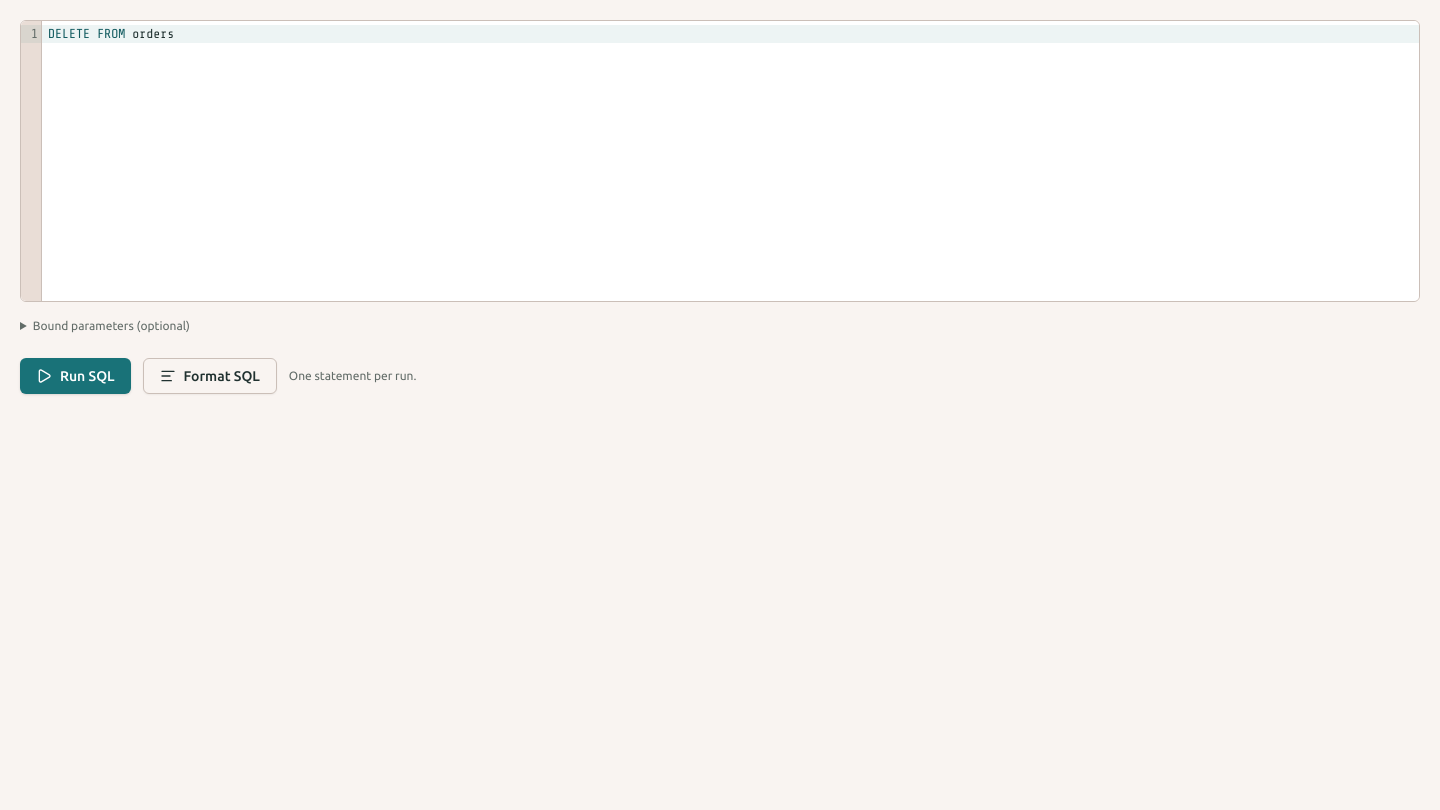
requires explicit confirmation of the exact write and allows cancellation
Click the button "Run SQL" at (75, 376), box [20,358,131,394]
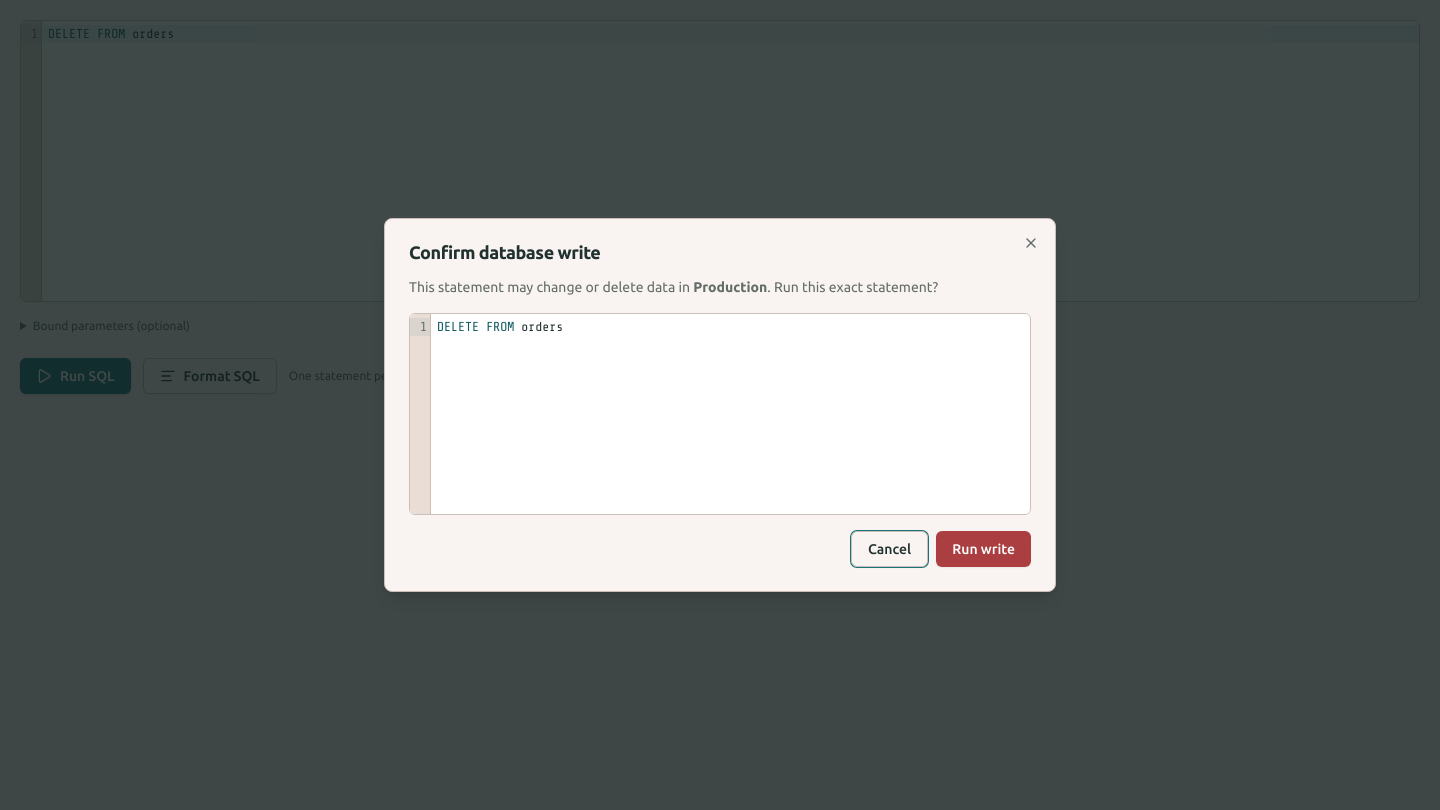
Expected: the dialog shows "Production", [693,279,767,295]
Click the button "Cancel" at (890, 549), box [851,531,928,567]
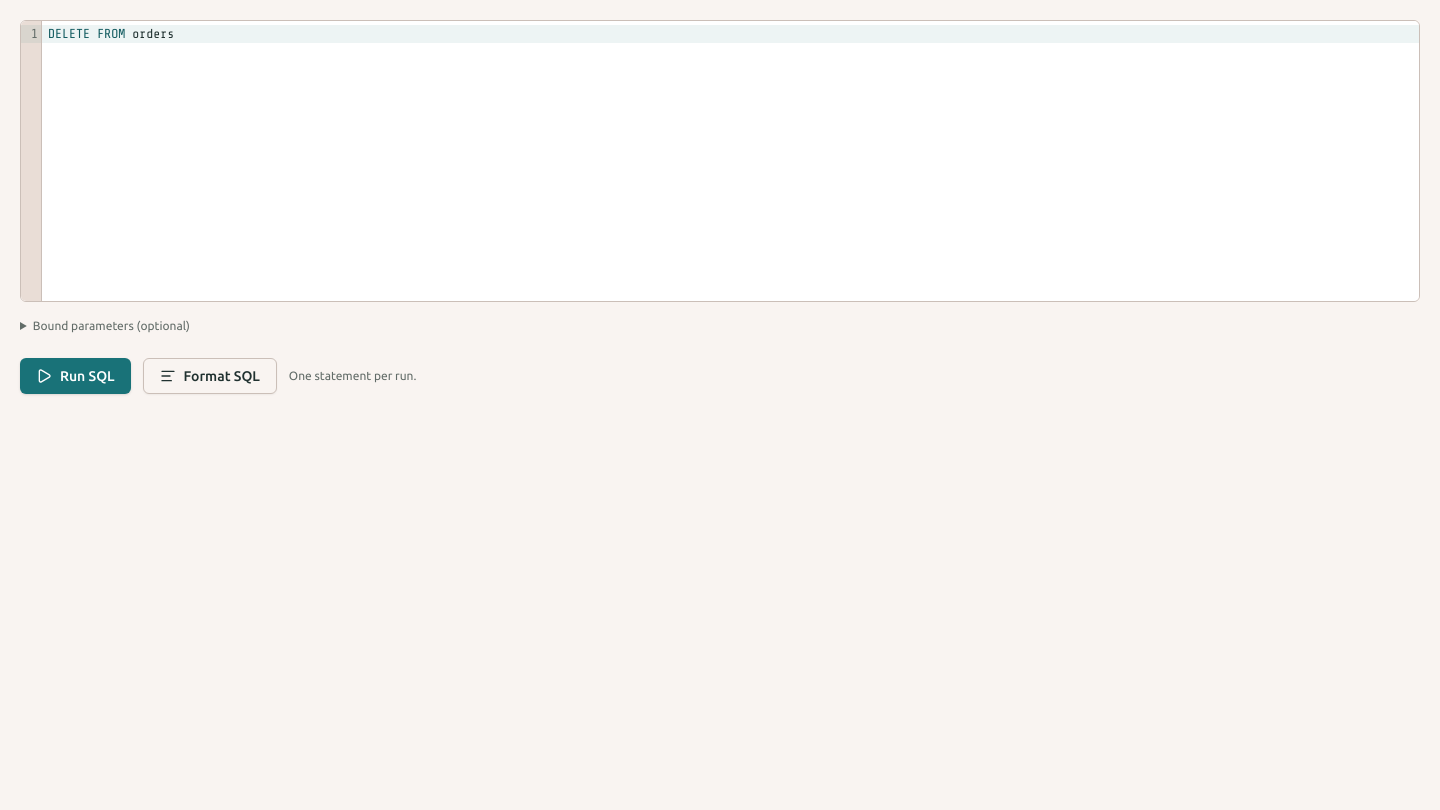
Click the button "Run SQL" at (75, 376), box [20,358,131,394]
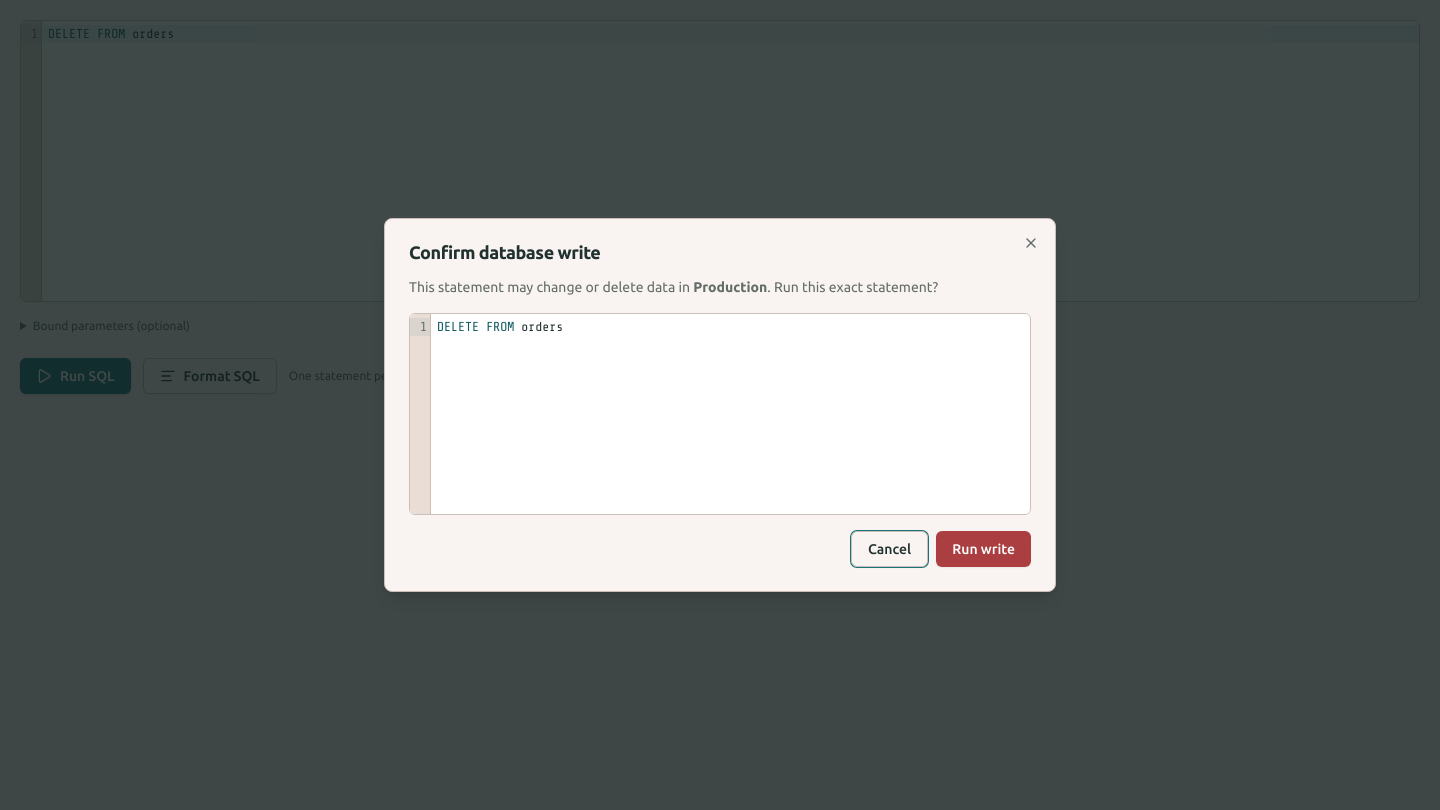
Expected: the dialog is shown, [384,218,1056,592]
Click the button "Run write" at (984, 549), box [936,531,1031,567]
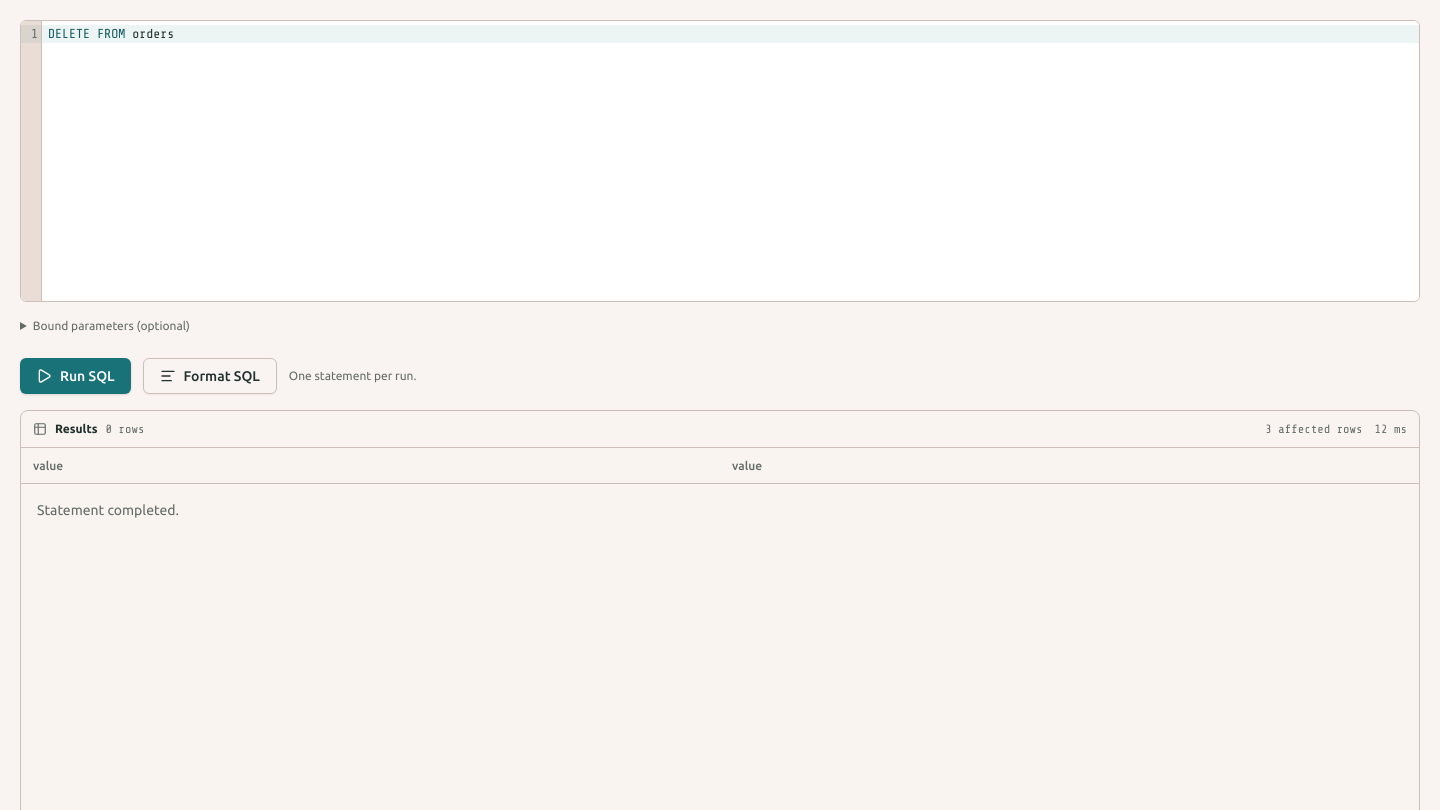
Expected: the text "3 affected rows" is shown, [1265,421,1363,437]
